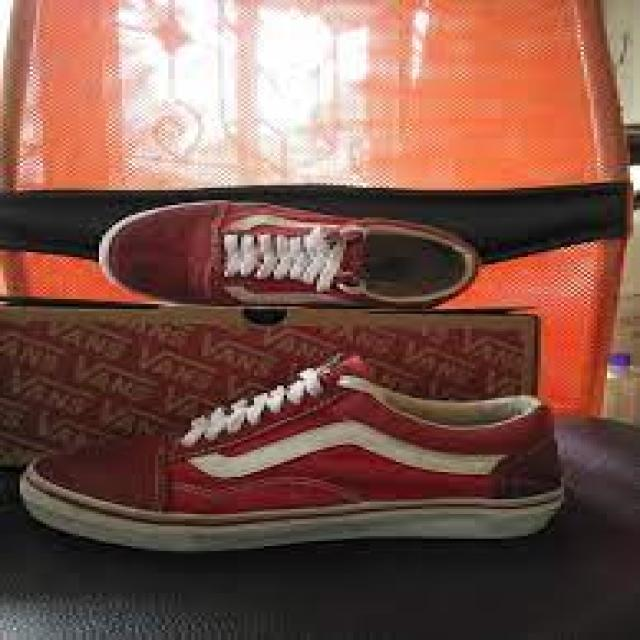shoe: (22, 358, 568, 552), (97, 195, 484, 313)
